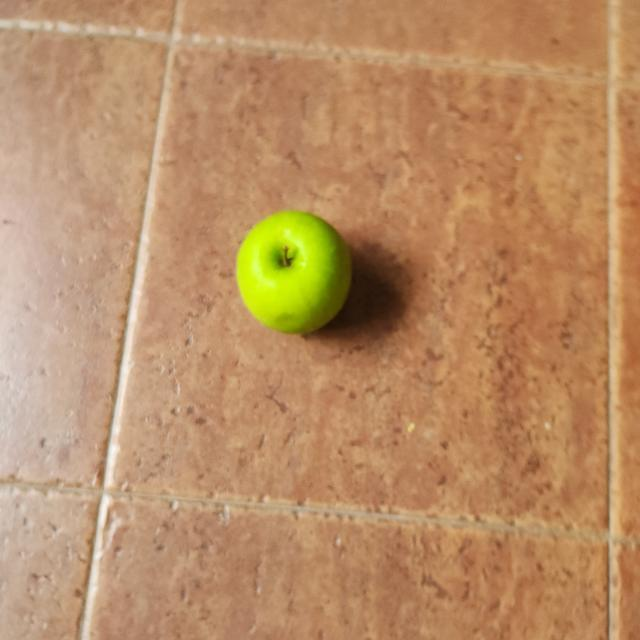apple: (231, 203, 362, 347)
